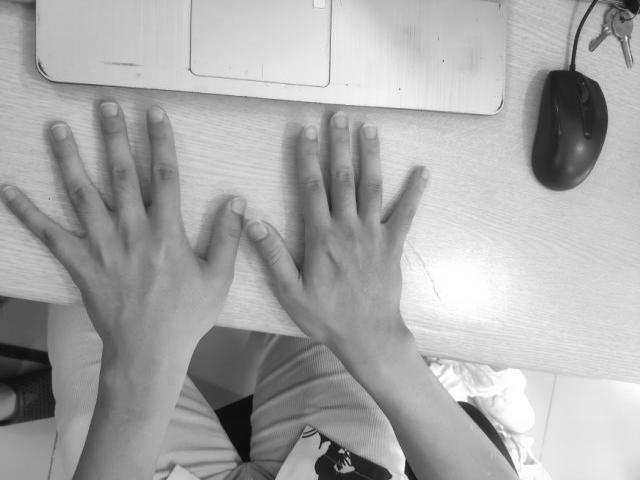not-gloved: (2, 100, 245, 339), (250, 114, 428, 338)
